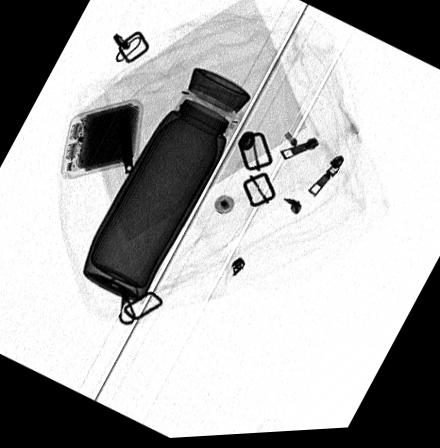Powerbank: (59, 98, 142, 180)
